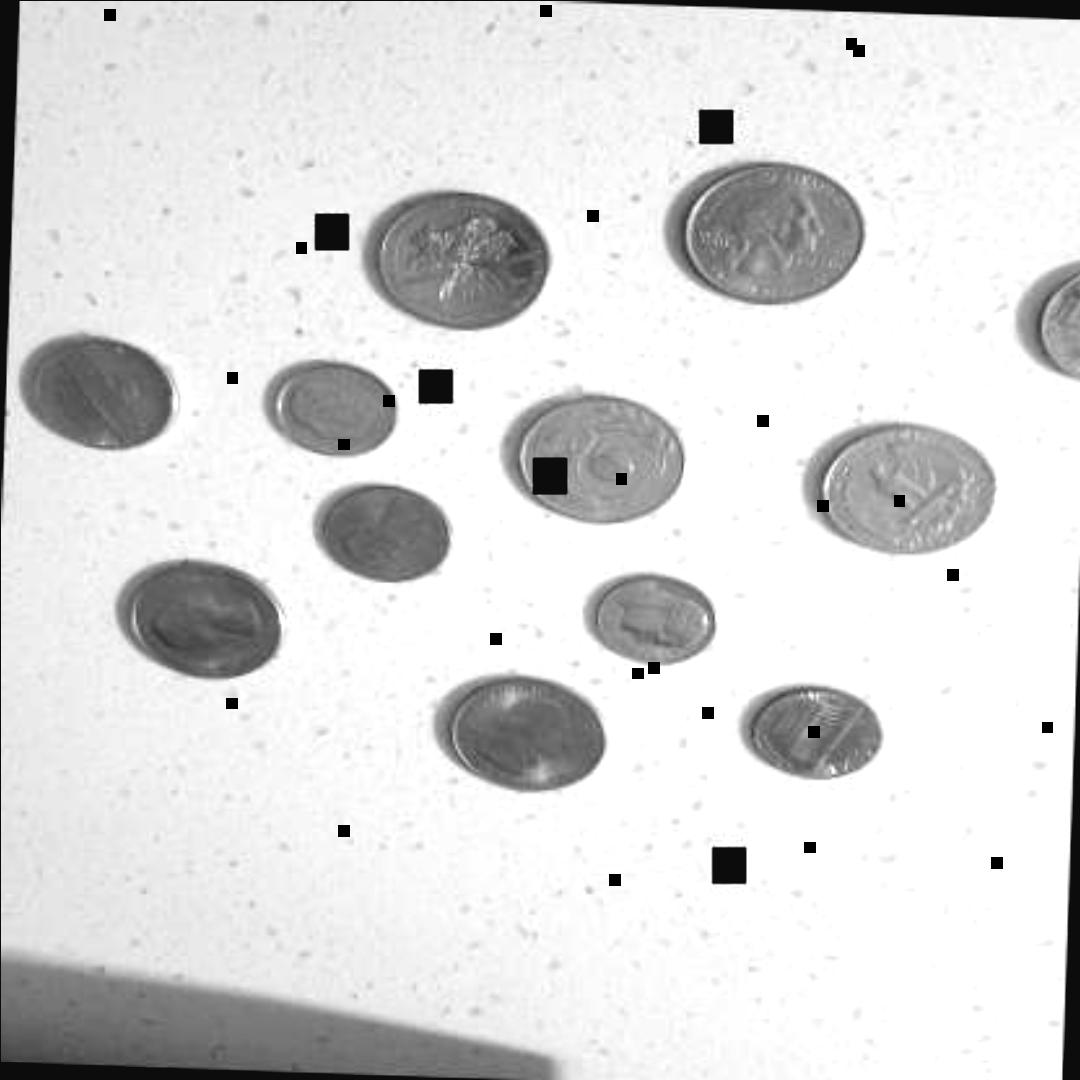Dime: (265, 356, 405, 462), (584, 566, 722, 668)
Nickel: (17, 332, 183, 450), (1028, 239, 1080, 392)
Penny: (307, 475, 465, 589), (743, 672, 893, 792)
Quarter: (671, 152, 873, 320), (364, 184, 562, 338), (816, 413, 1006, 563), (502, 394, 698, 536), (440, 666, 620, 800), (116, 552, 292, 688)
